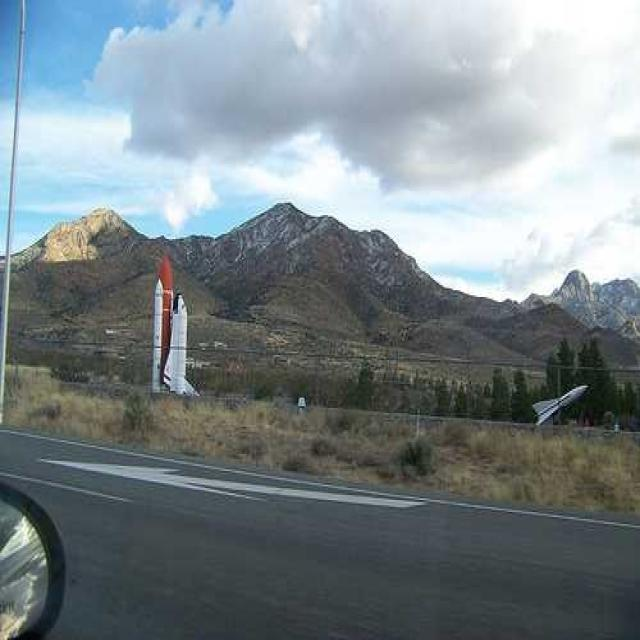missile: (149, 248, 195, 397), (535, 382, 588, 424)
